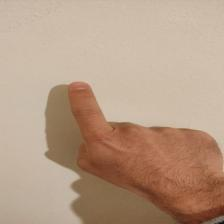one: (63, 78, 222, 197)
